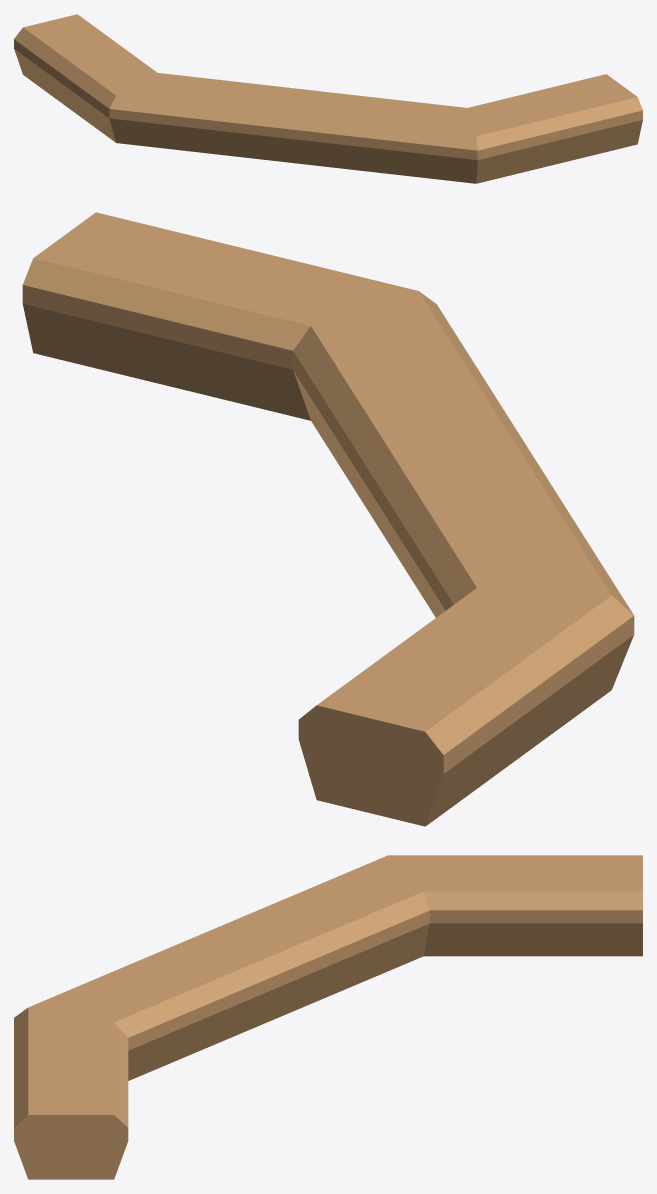
File: Wall_Curved_Large_Top.fbx
The picture shows the model from 3 angles, top to bottom: view 1: azimuth 30°, elevation 25°; view 2: azimuth 150°, elevation 25°; view 3: azimuth 270°, elevation 25°; orthographic projection. The views are drawn at different scales.
Parts seen in each view (by area): view 1: object1; view 2: object1; view 3: object1.
Part boxes in pixels (bbox=[...]): object1: bbox=[14, 14, 642, 183]; object1: bbox=[22, 212, 634, 826]; object1: bbox=[14, 855, 642, 1179].
Bounding box in the file's own units: 2.2 × 0.25 × 2.2.
